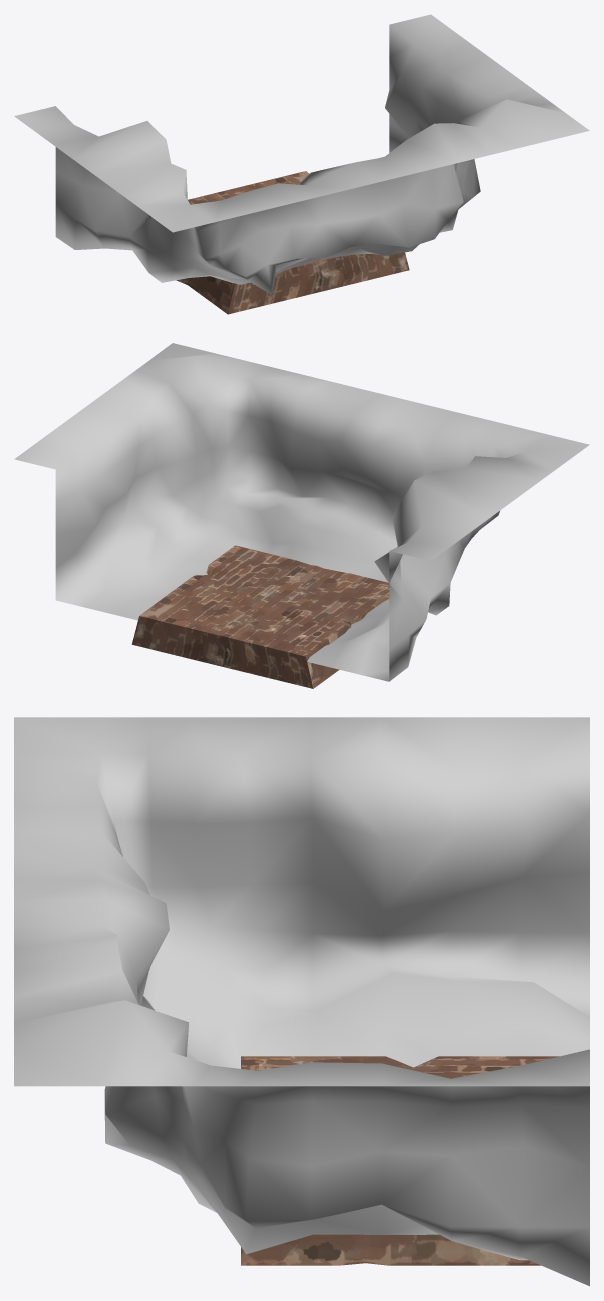
File: tile_naturalstart.fbx
3 renders of one model, top to bottom at view 1: azimuth 30°, elevation 25°; view 2: azimuth 150°, elevation 25°; view 3: azimuth 270°, elevation 25°, orthographic. The views are drawn at different scales.
Parts seen in each view (by area): view 1: tilenaturalstart; view 2: tilenaturalstart; view 3: tilenaturalstart.
Part boxes in pixels (left/top/right/bottom): tilenaturalstart: left=14, top=14, right=589, bottom=314; tilenaturalstart: left=14, top=343, right=589, bottom=688; tilenaturalstart: left=14, top=717, right=589, bottom=1286.
Bounding box in the file's own units: 1000 × 660 × 409.
